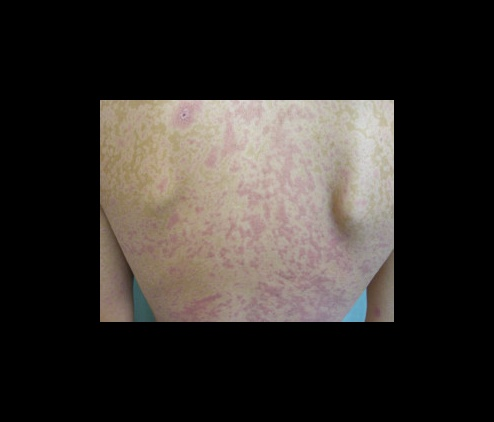SJS-TEN: (99, 101, 396, 325)
